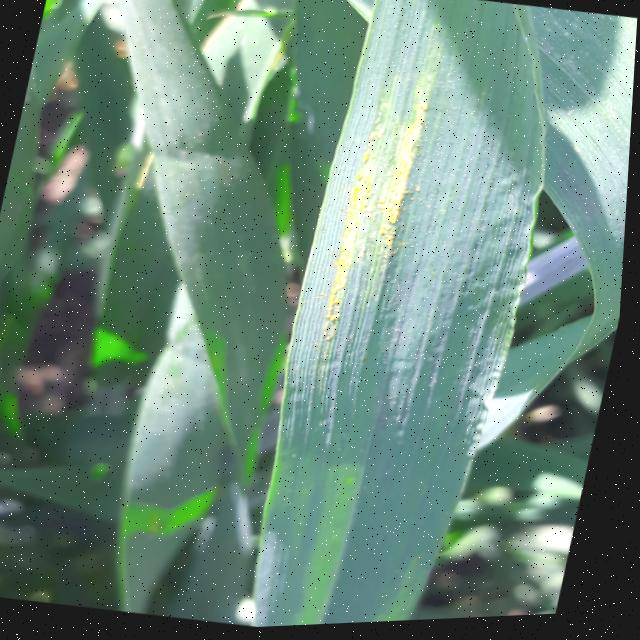yellow_rust: (251, 0, 597, 545)
